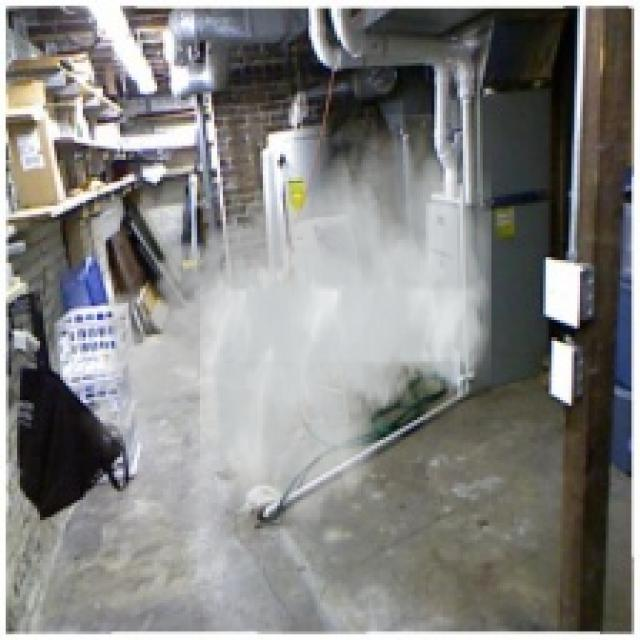smoke: (77, 115, 492, 534)
